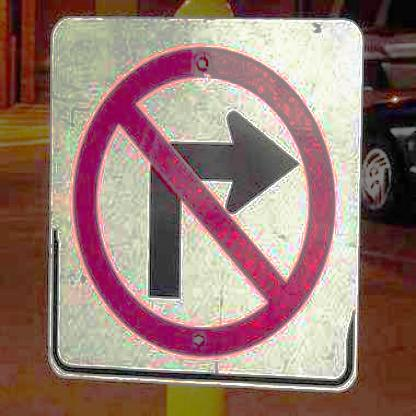No right turn: (69, 30, 346, 356)
